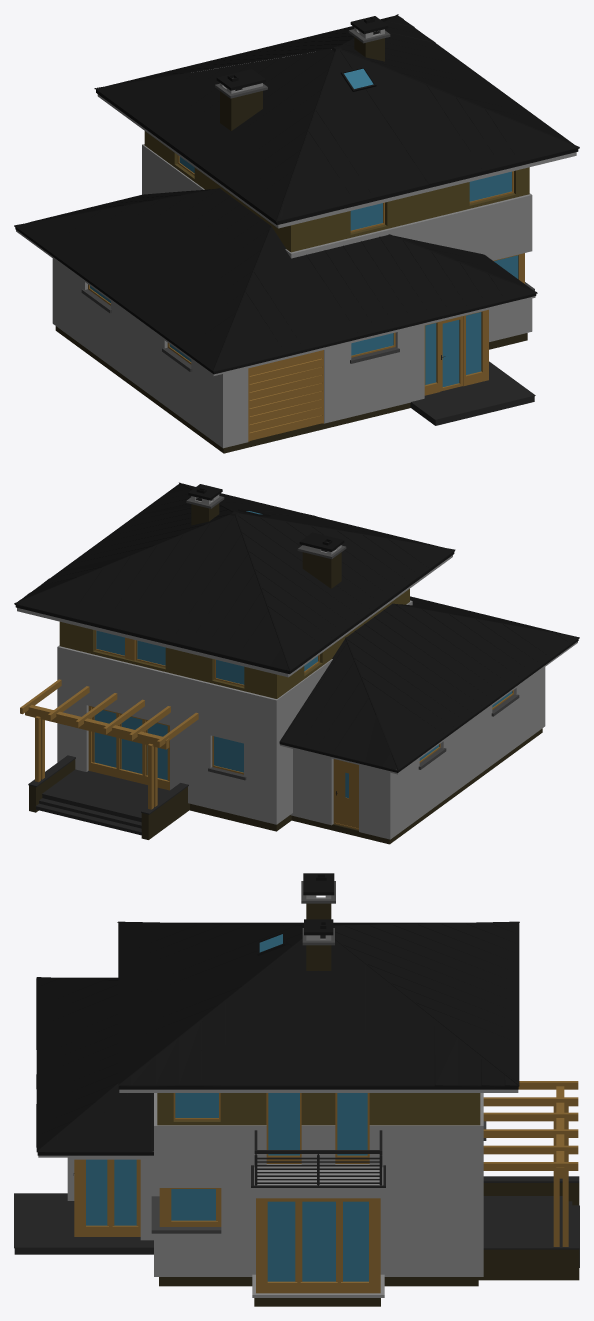
The model's file is bambo-house.glb.
3 renders of one model, top to bottom at view 1: azimuth 30°, elevation 25°; view 2: azimuth 150°, elevation 25°; view 3: azimuth 270°, elevation 25°, orthographic. The views are drawn at different scales.
Bounding box in the file's own units: 13.48 × 9 × 14.54.
